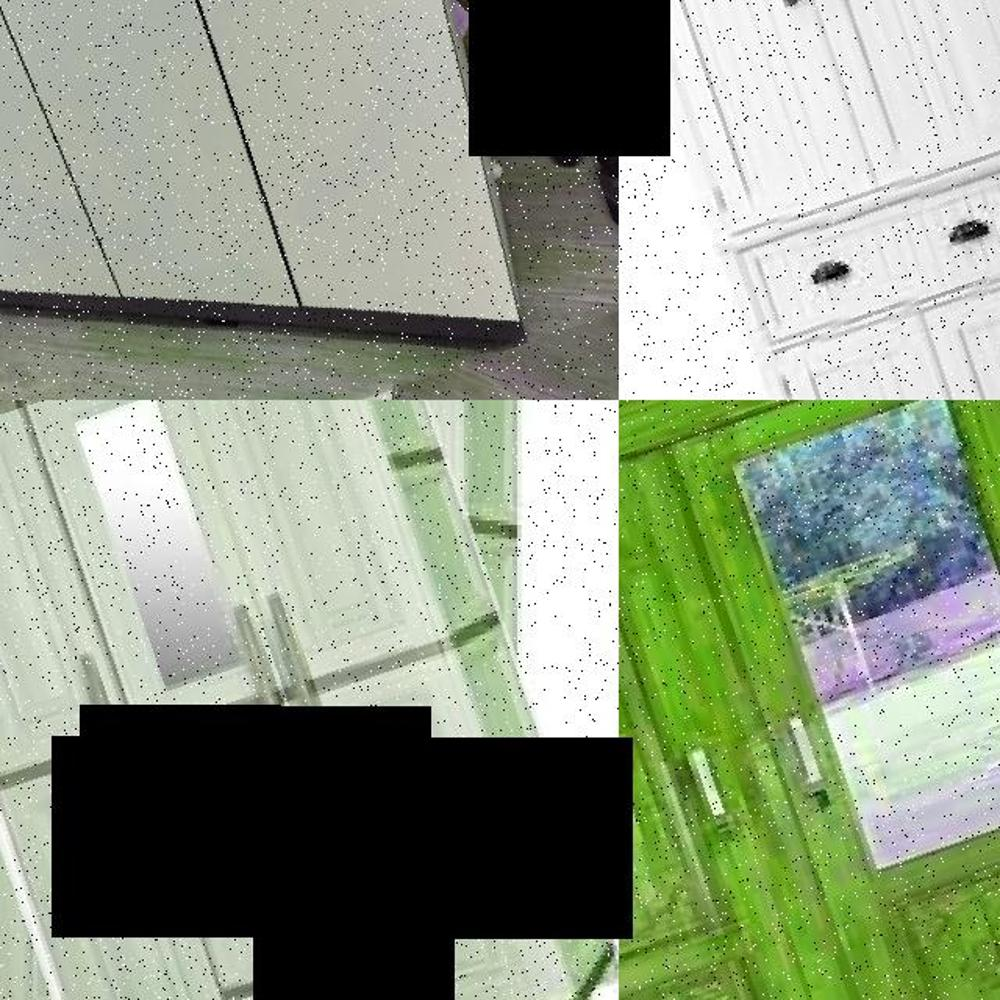cabinet: (0, 400, 580, 1000), (0, 0, 578, 400), (619, 400, 1000, 1000), (619, 0, 1000, 400)
